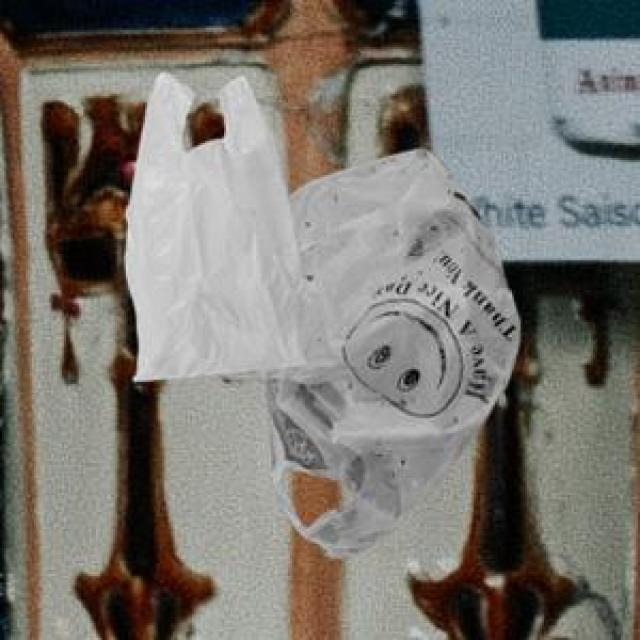waste: (270, 152, 520, 550), (128, 76, 342, 382)
